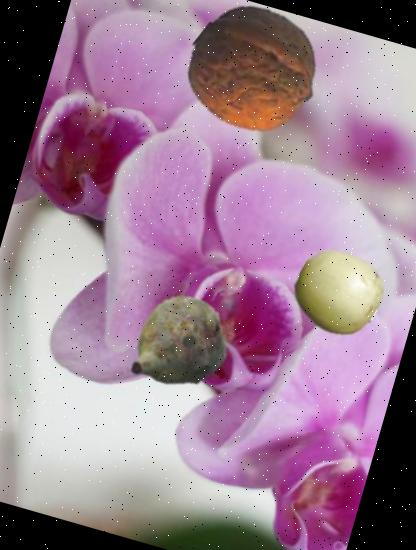Apple: (284, 238, 392, 346)
Beetroot: (93, 272, 246, 424)
Walnut: (174, 0, 331, 147)
